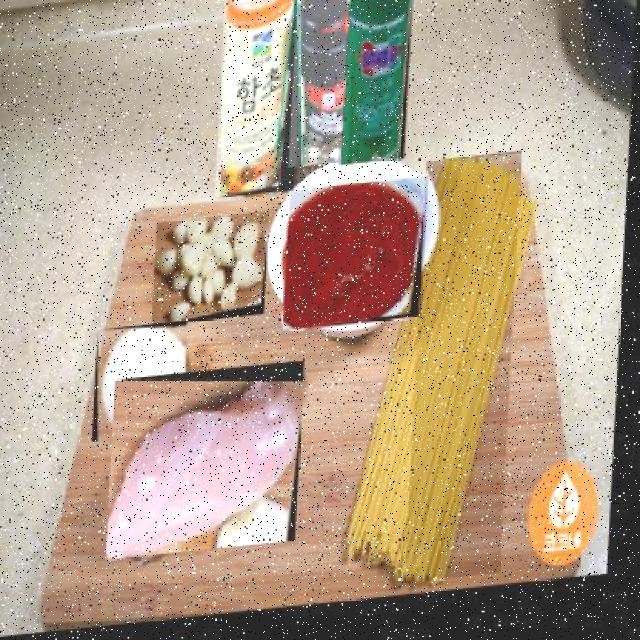Chicken: (112, 368, 310, 566)
Garlic: (155, 218, 273, 332)
Ketchup: (286, 187, 431, 339)
Onion: (97, 325, 192, 446)
